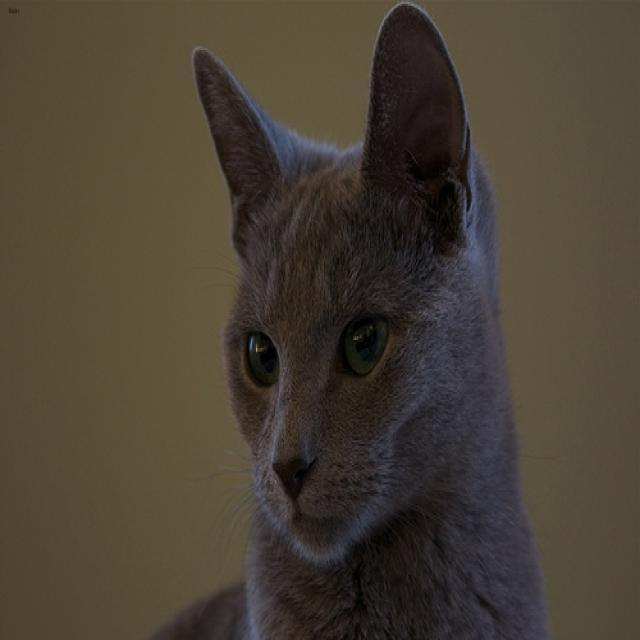Russian_Blue: (191, 2, 475, 557)
